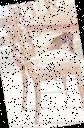Silla: (1, 5, 83, 127), (8, 0, 82, 89)
